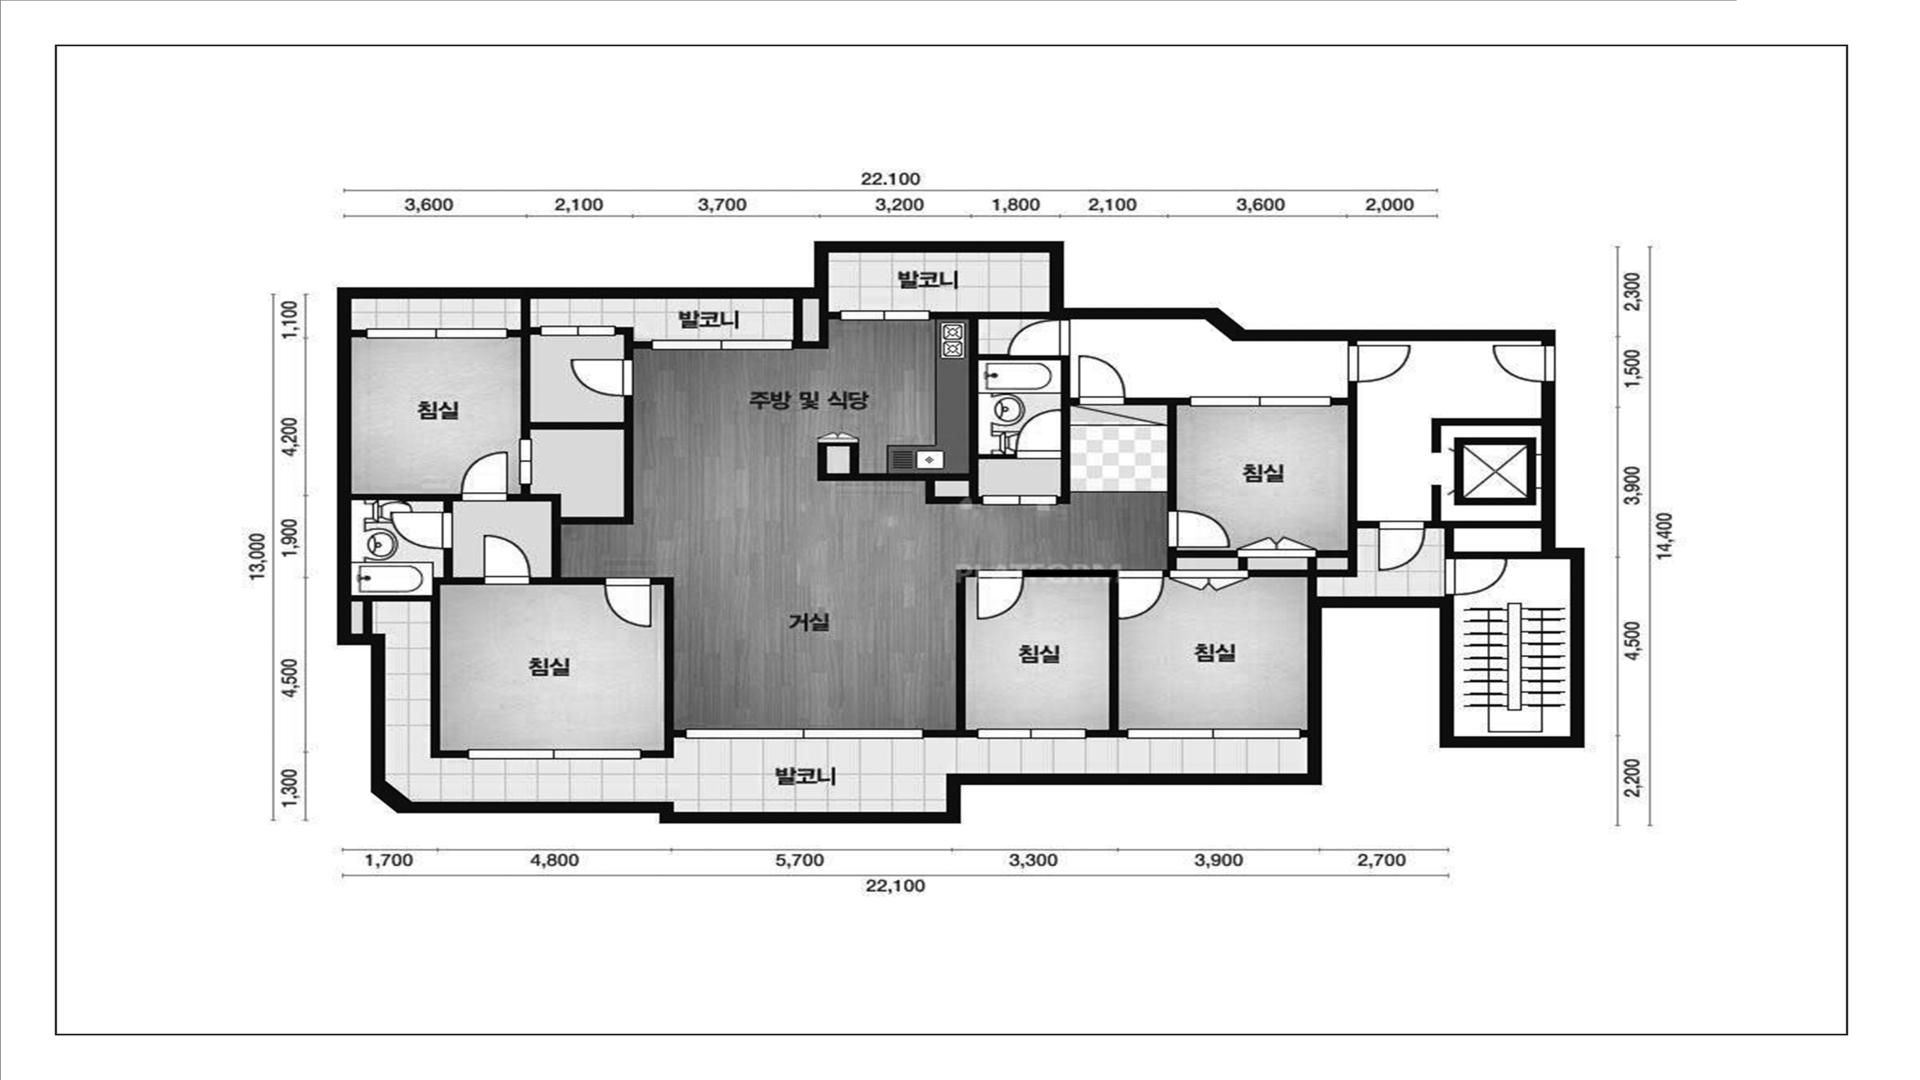door: (1491, 344, 1556, 382), (1378, 521, 1425, 572), (604, 578, 651, 628), (460, 451, 508, 501), (1014, 409, 1062, 459), (977, 570, 1025, 620), (390, 512, 452, 550), (571, 359, 633, 397), (1167, 510, 1230, 547), (1079, 355, 1125, 405), (1118, 570, 1164, 620), (1007, 319, 1069, 356), (1348, 345, 1410, 382), (484, 535, 530, 584), (1445, 559, 1507, 595), (982, 496, 1058, 505), (520, 439, 531, 485)
wall: (336, 241, 1585, 823), (818, 313, 1079, 504), (508, 299, 633, 584), (1249, 381, 1378, 597), (351, 549, 484, 758), (1023, 570, 1127, 737), (923, 570, 977, 737), (1425, 485, 1542, 559), (641, 578, 686, 758), (1125, 398, 1189, 510), (1432, 418, 1542, 452), (793, 298, 840, 348), (351, 495, 462, 512), (1167, 547, 1238, 570), (616, 327, 651, 359), (351, 330, 367, 336), (1300, 731, 1308, 737), (1163, 570, 1170, 576), (1349, 340, 1357, 345), (1445, 595, 1453, 597)
window: (686, 728, 923, 738), (468, 749, 641, 758), (1127, 729, 1300, 738), (367, 328, 508, 339), (651, 340, 793, 351), (1189, 397, 1331, 406), (977, 729, 1087, 738), (840, 311, 930, 320), (539, 326, 616, 336)
